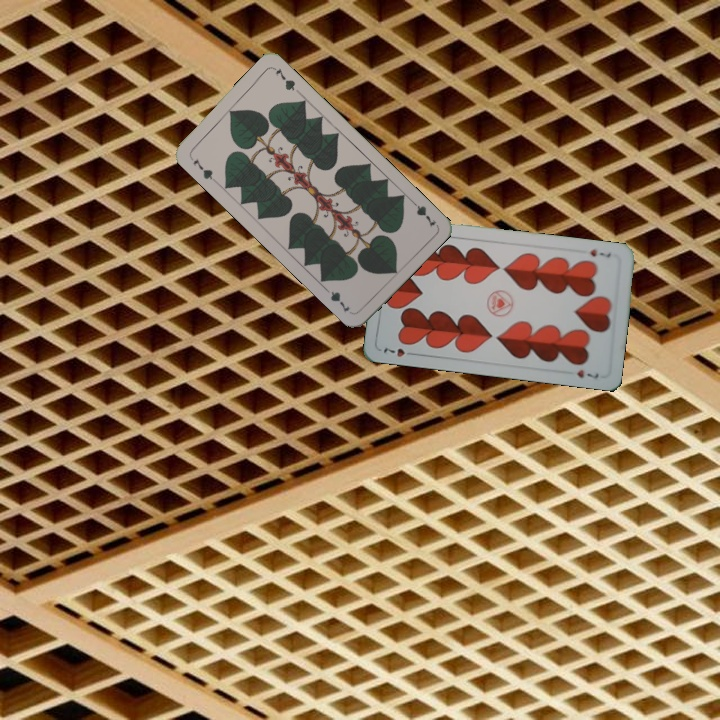G7: (406, 195, 439, 230), (186, 152, 218, 184)
H7: (379, 343, 418, 359), (586, 245, 613, 260)
